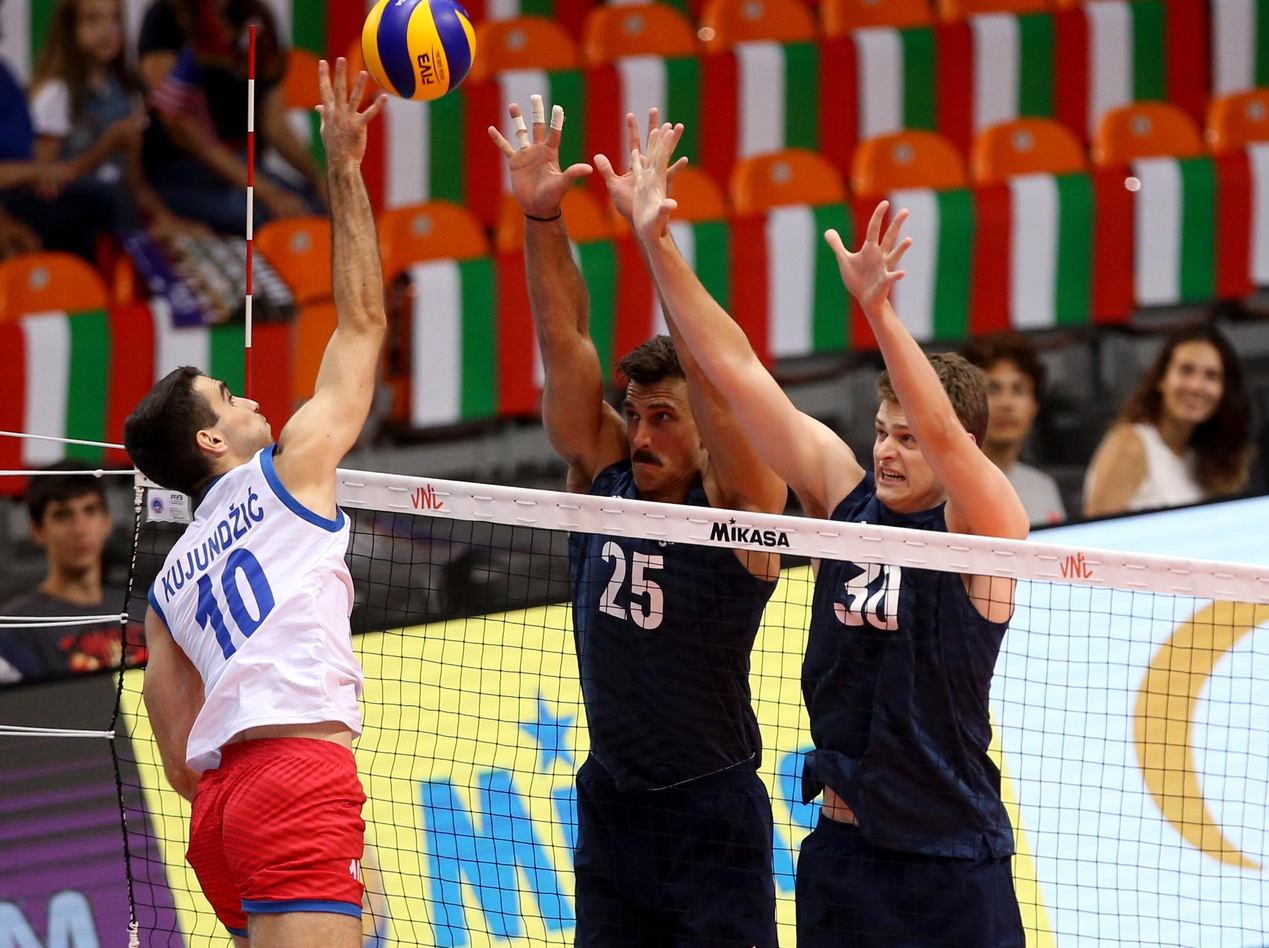ballon_volley: (356, 0, 478, 103)
